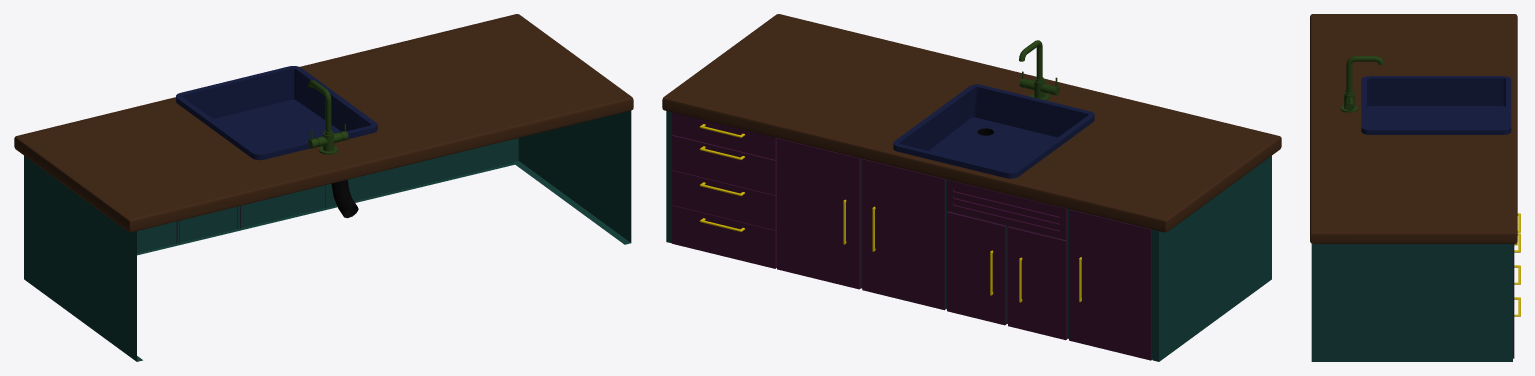
Rendered from T_TableEvier.fbx.
3 views of the same model, side by side, from view 1: azimuth 30°, elevation 25°; view 2: azimuth 150°, elevation 25°; view 3: azimuth 270°, elevation 25° (orthographic). The views are drawn at different scales.
Visible parts, largest first — view 1: Table2; view 2: Table2; view 3: Table2.
Part boxes in pixels (left/top/right/bottom): Table2: left=14, top=14, right=633, bottom=361; Table2: left=662, top=14, right=1281, bottom=361; Table2: left=1310, top=14, right=1520, bottom=361.
Size of the model in its own units: 303 by 118 by 123.
